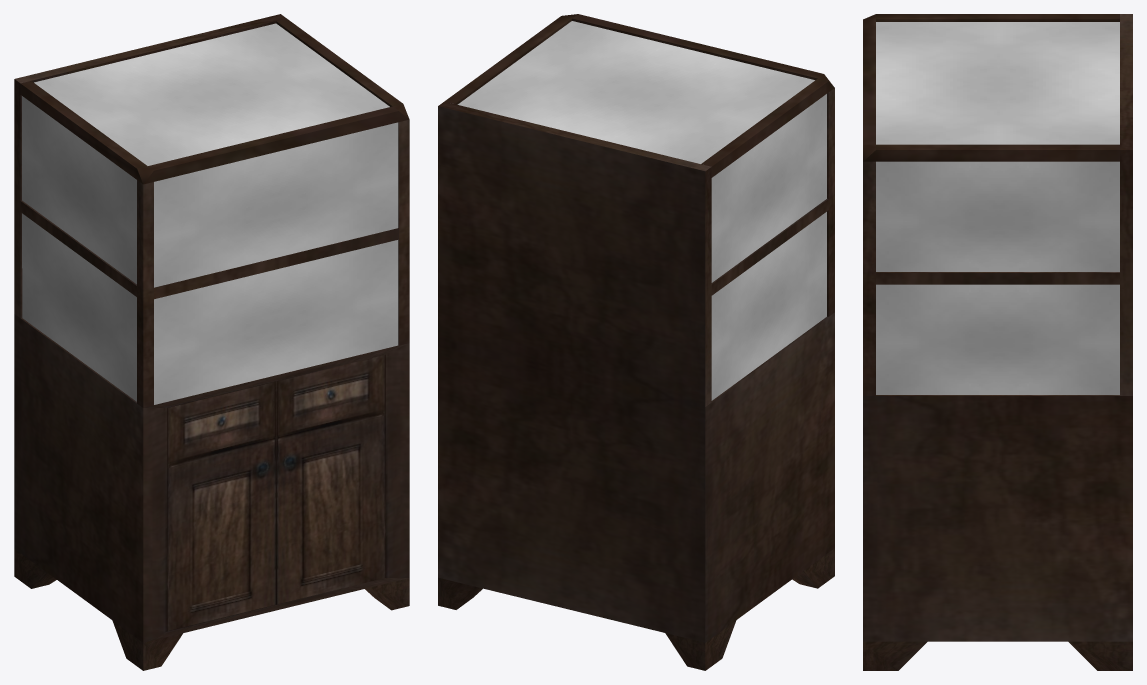
The model's file is cabinet_jeweler_cabinetTall.fbx.
3 renders of one model, left to right at view 1: azimuth 30°, elevation 25°; view 2: azimuth 150°, elevation 25°; view 3: azimuth 270°, elevation 25°, orthographic. The views are drawn at different scales.
Visible parts, largest first — view 1: cabinet_doors, glass01, glass02, topframe_frame, topframe_top, topframe_back, cabinet_foot_5, cabinet_foot_3, cabinet_foot_4; view 2: cabinet_doors, topframe_back, glass01, glass02, topframe_top, topframe_frame, cabinet_foot_4, cabinet_foot_2, cabinet_foot_5; view 3: cabinet_doors, glass01, glass02, topframe_top, topframe_frame, topframe_back, cabinet_foot_3, cabinet_foot_2.
Boxes of the visible parts, x1,y1,x2,y2 form: cabinet_doors: [14, 314, 409, 642]; glass01: [22, 23, 398, 287]; glass02: [22, 213, 398, 404]; topframe_frame: [20, 119, 409, 407]; topframe_top: [20, 18, 409, 184]; topframe_back: [14, 14, 286, 318]; cabinet_foot_5: [112, 620, 182, 670]; cabinet_foot_3: [365, 578, 409, 610]; cabinet_foot_4: [14, 549, 56, 588]; cabinet_doors: [438, 312, 834, 642]; topframe_back: [438, 101, 711, 406]; glass01: [457, 21, 826, 282]; glass02: [711, 212, 826, 400]; topframe_top: [444, 14, 834, 177]; topframe_frame: [711, 88, 834, 316]; cabinet_foot_4: [665, 620, 736, 670]; cabinet_foot_2: [438, 577, 482, 609]; cabinet_foot_5: [792, 548, 834, 588]; cabinet_doors: [863, 395, 1132, 641]; glass01: [876, 22, 1119, 271]; glass02: [876, 284, 1119, 394]; topframe_top: [863, 14, 1119, 161]; topframe_frame: [863, 161, 1119, 395]; topframe_back: [1120, 14, 1132, 395]; cabinet_foot_3: [863, 641, 927, 670]; cabinet_foot_2: [1068, 641, 1132, 670].
Size of the model in its own units: 248 by 444 by 208.
3 materials, 3 textured.
